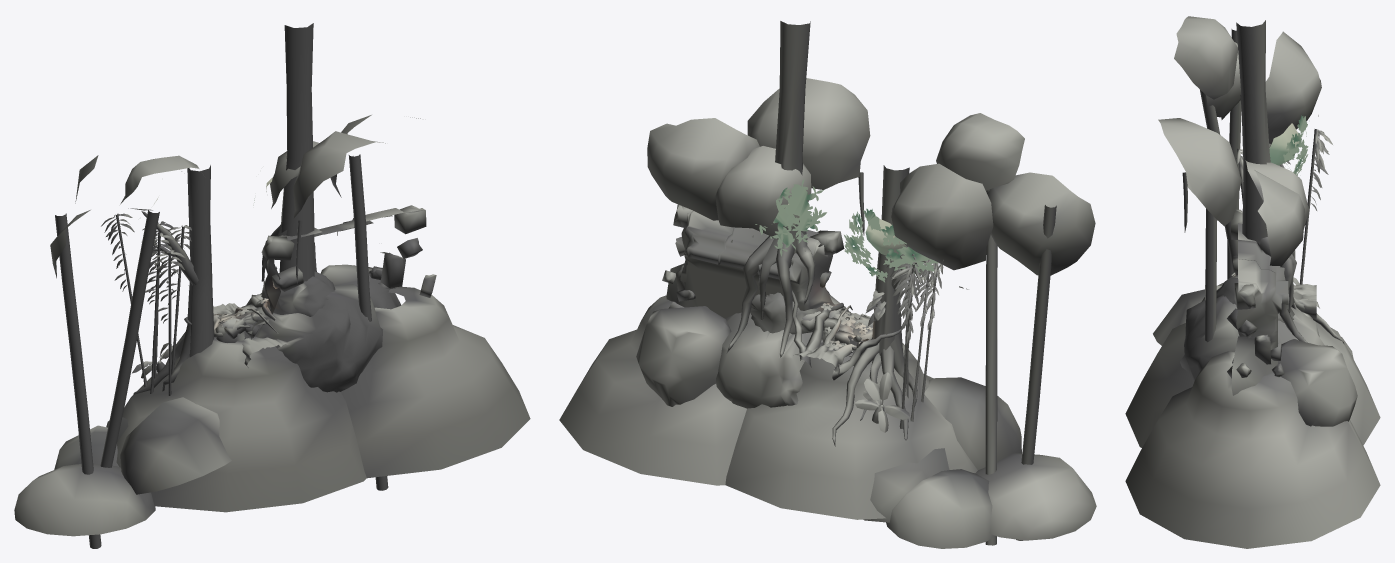
Rendered from Jungle_Canopy_Straight_Jump_B.glb.
3 views of the same model, side by side, from view 1: azimuth 30°, elevation 25°; view 2: azimuth 150°, elevation 25°; view 3: azimuth 270°, elevation 25° (orthographic).
Parts seen in each view (by area): view 1: Jungle_Canopy_Straight_Jump_B; view 2: Jungle_Canopy_Straight_Jump_B; view 3: Jungle_Canopy_Straight_Jump_B.
Boxes of the visible parts, <box> form: Jungle_Canopy_Straight_Jump_B: <box>14,23,530,548</box>; Jungle_Canopy_Straight_Jump_B: <box>559,21,1096,548</box>; Jungle_Canopy_Straight_Jump_B: <box>1125,16,1380,548</box>.
Size of what is drawn, in the model's own units: 41.32 by 36.96 by 18.27.
